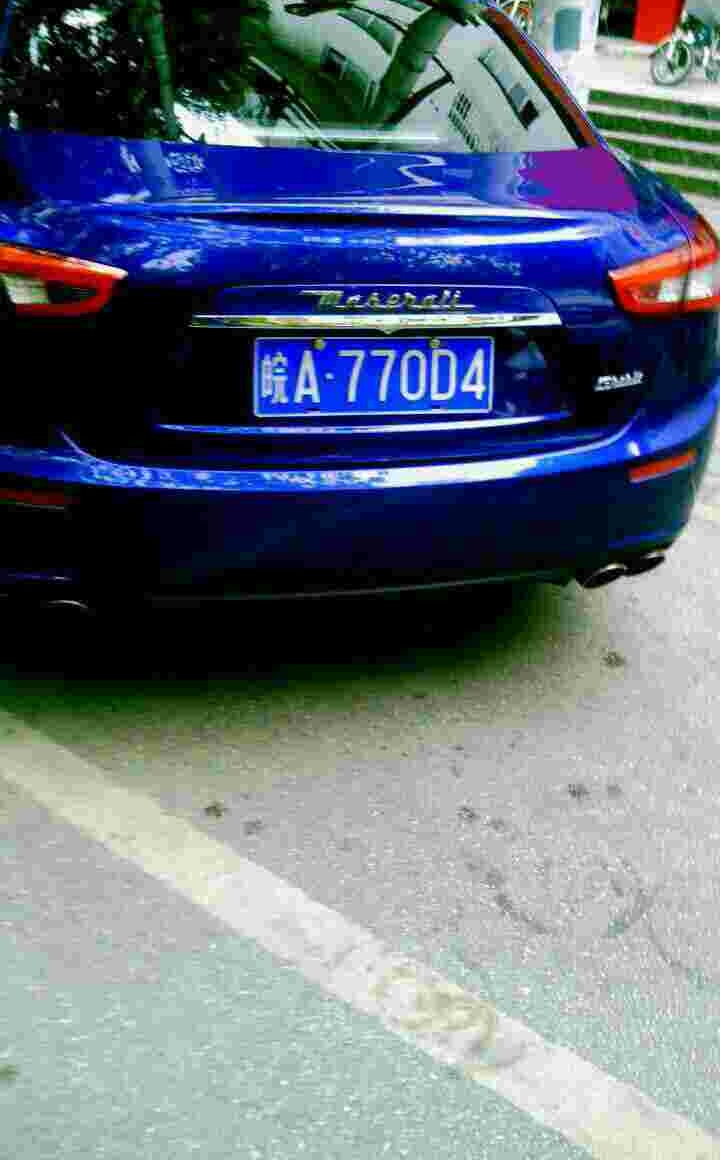plate: (258, 330, 501, 421)
